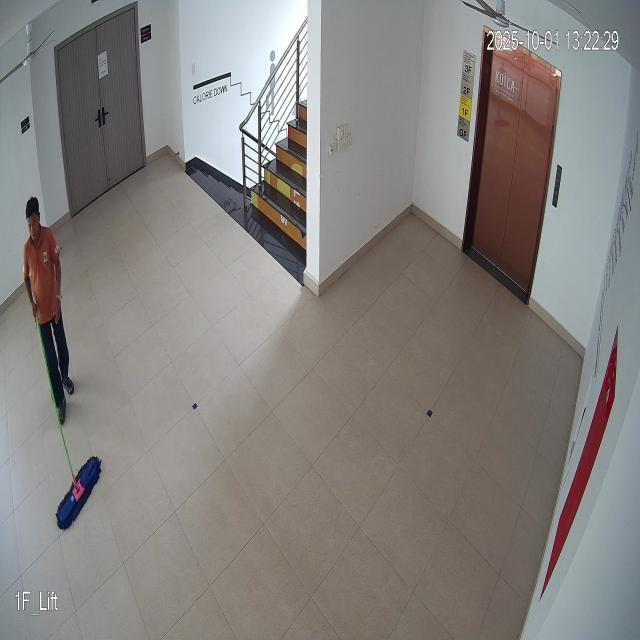face: (23, 194, 43, 250)
